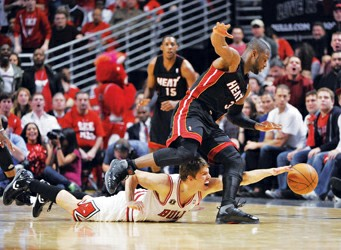10+: (1, 1, 341, 230)
down: (14, 160, 289, 229)
